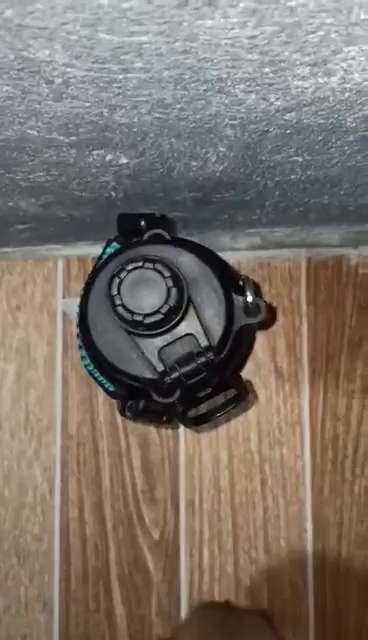tumbler: (77, 221, 275, 432)
